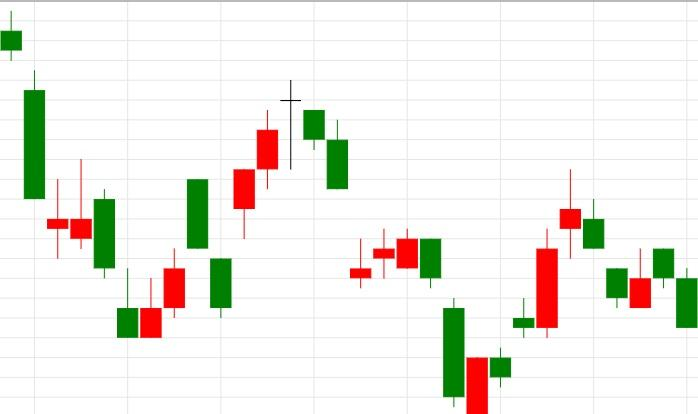evening_star_fall: (209, 79, 325, 318)
inverse_hammer_rise: (0, 11, 93, 259)
